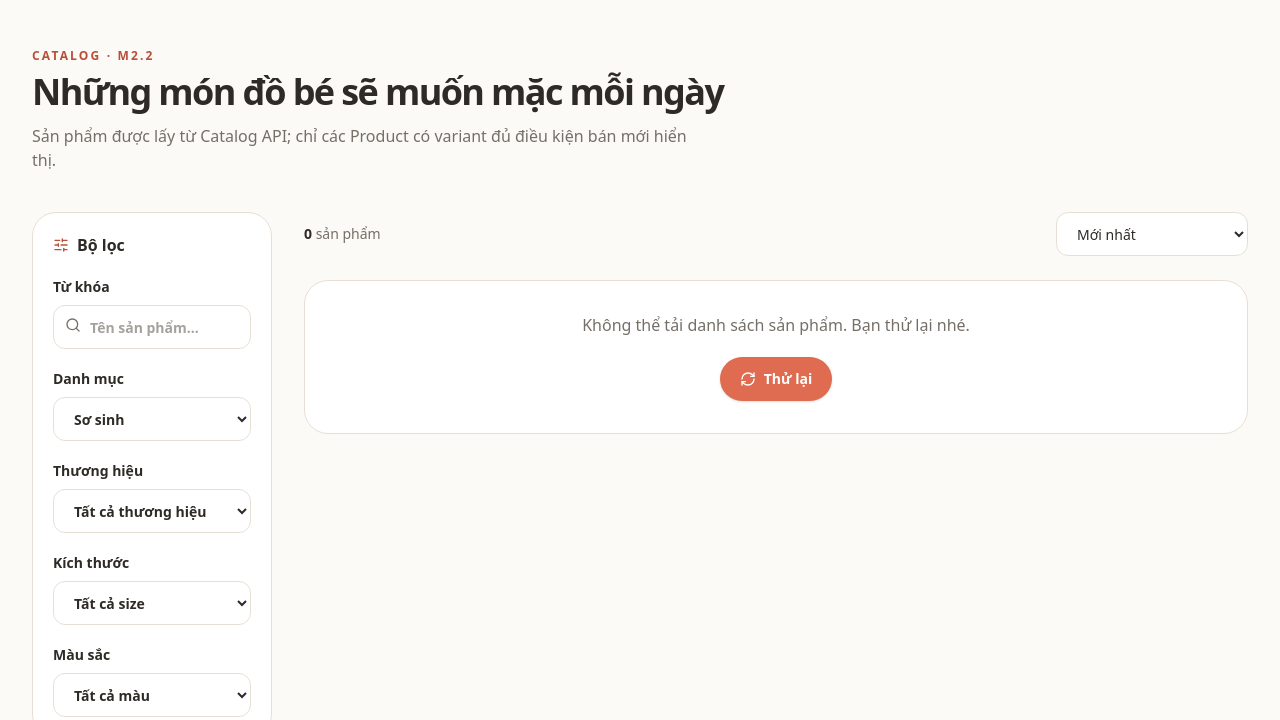
Test case: ProductsCatalog URL filters › retries the current category after an API error
Click the button "Thử lại".
click(776, 379)  # box [720,357,832,401]
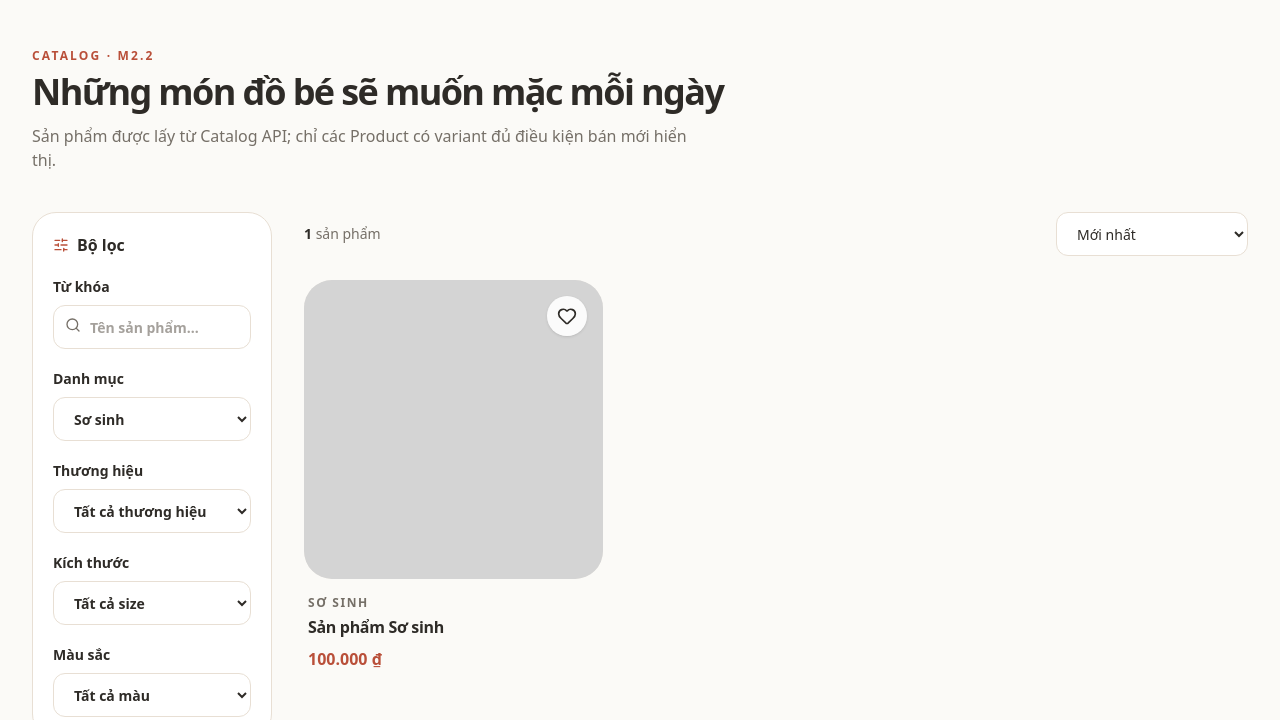
Expected: the link "Sản phẩm Sơ sinh" is shown, [308,616,444,638]
